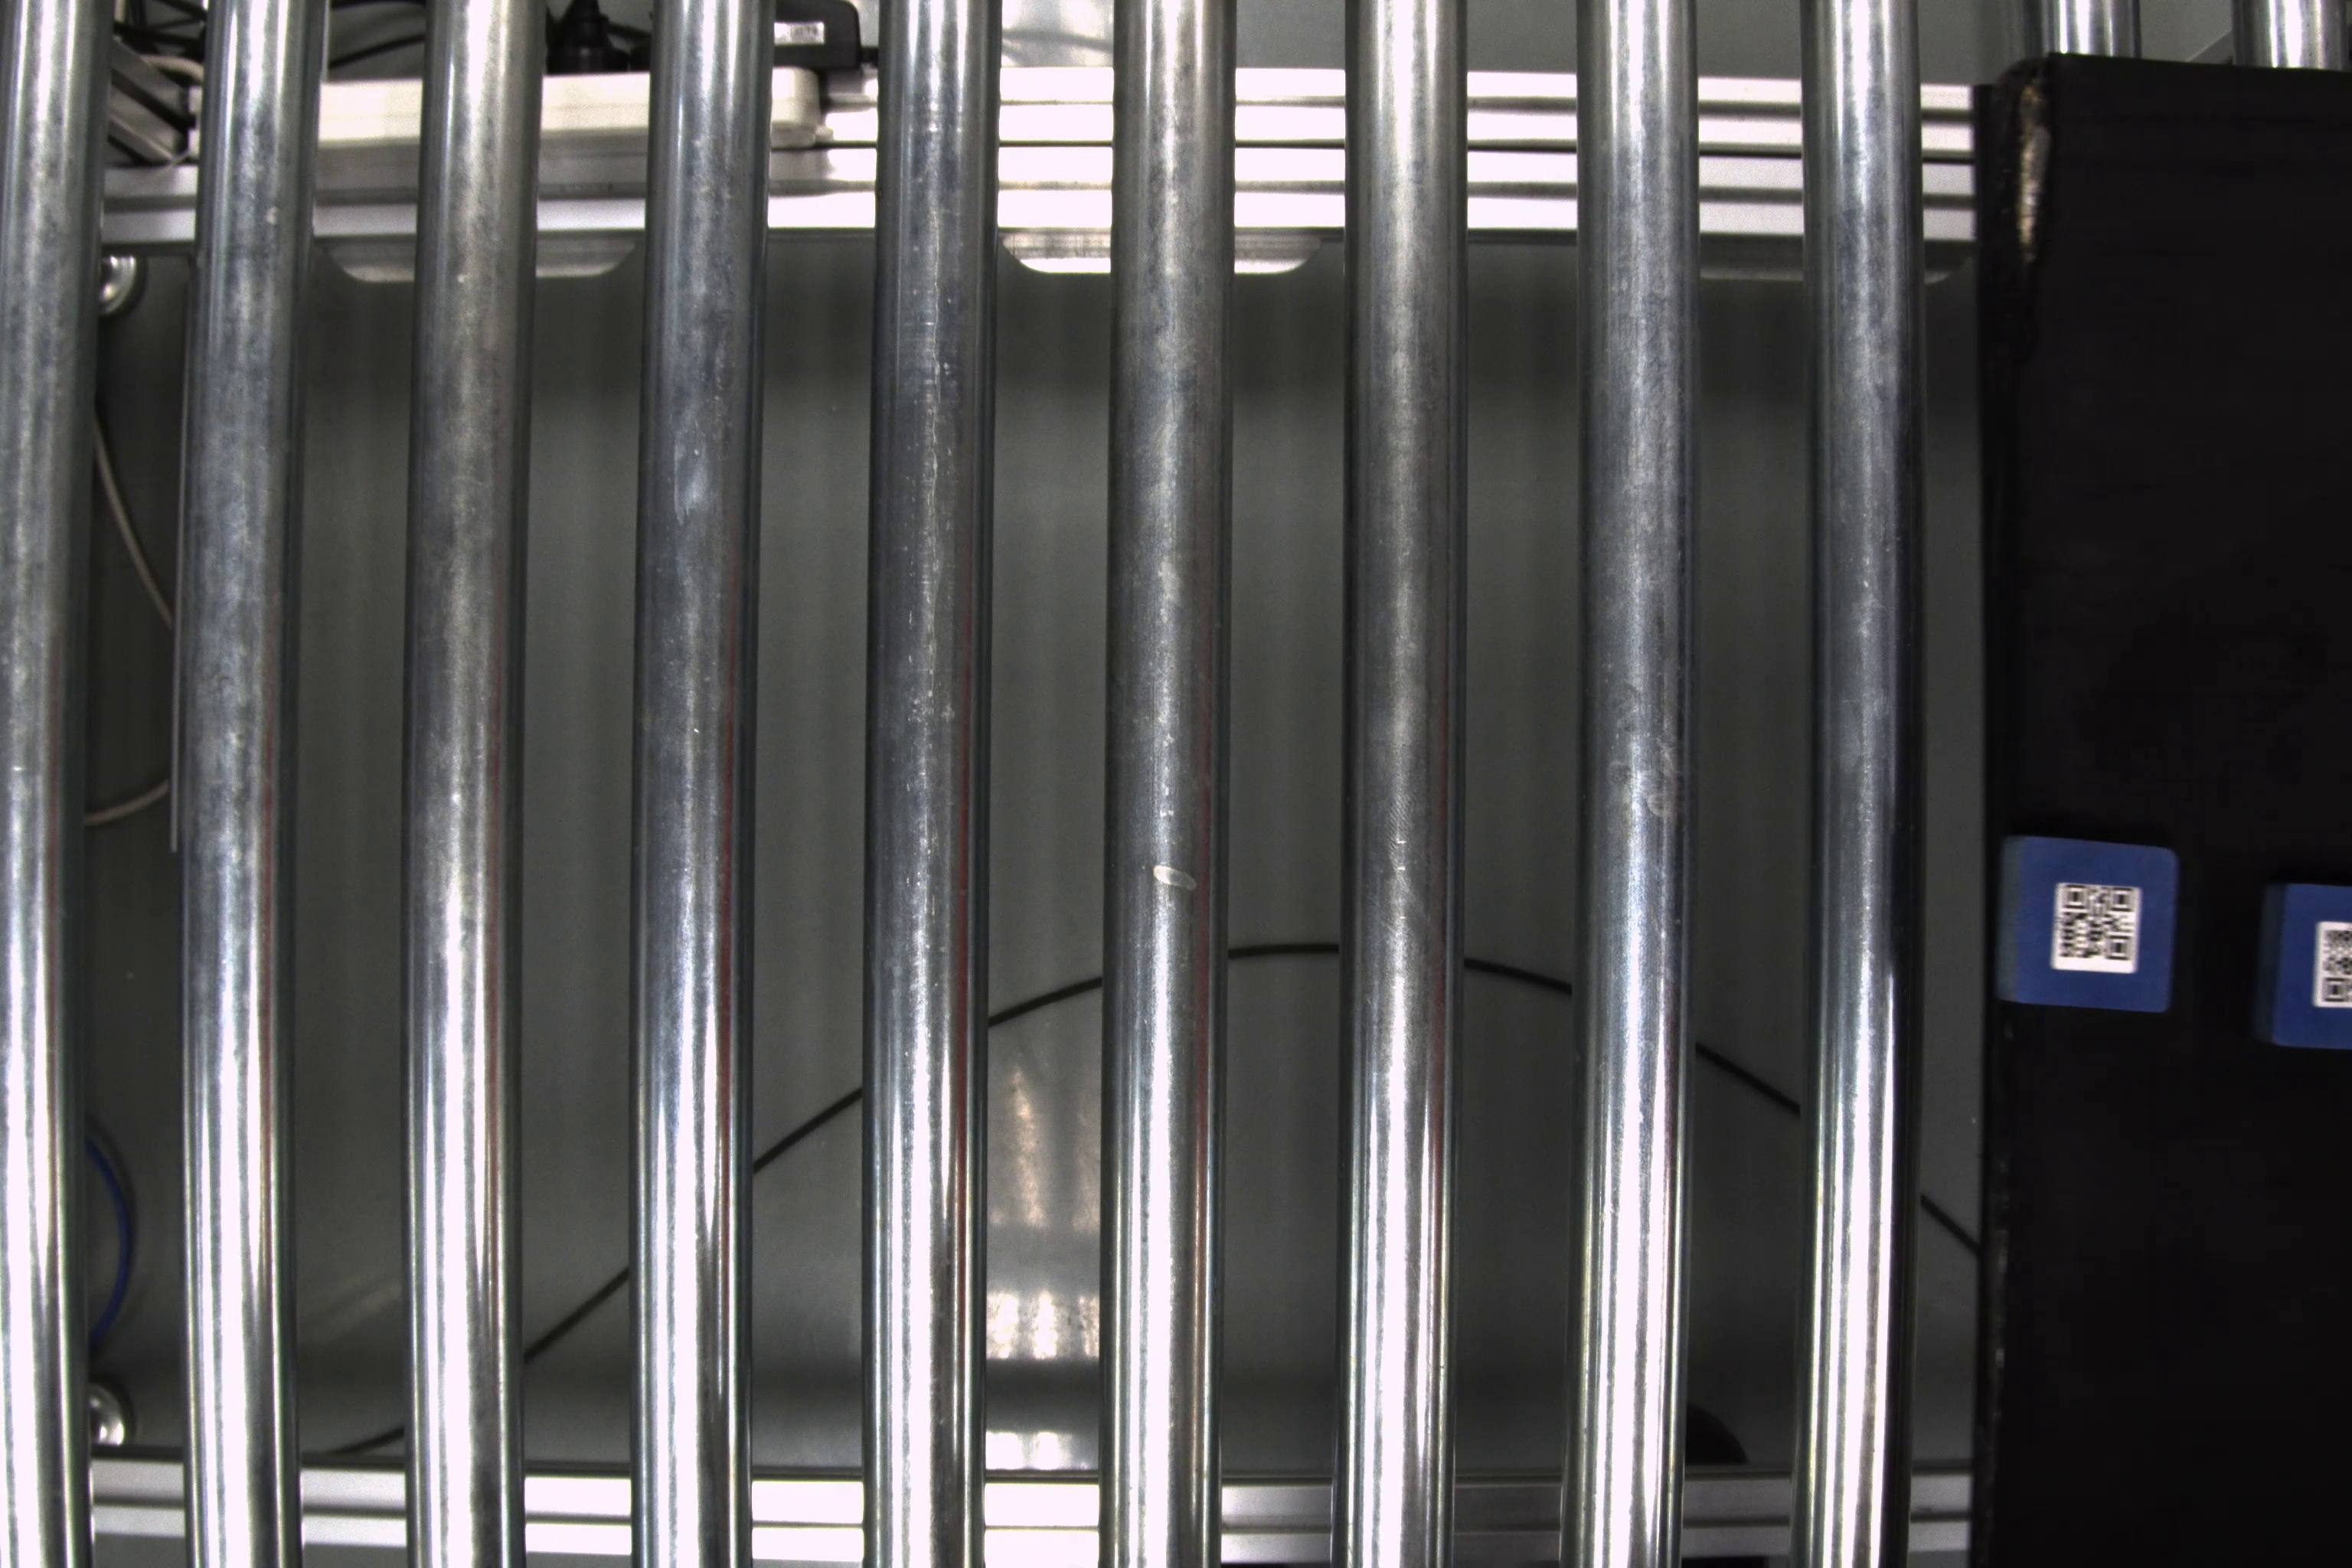wood: (2000, 829, 2180, 1015), (2261, 877, 2348, 1057)
